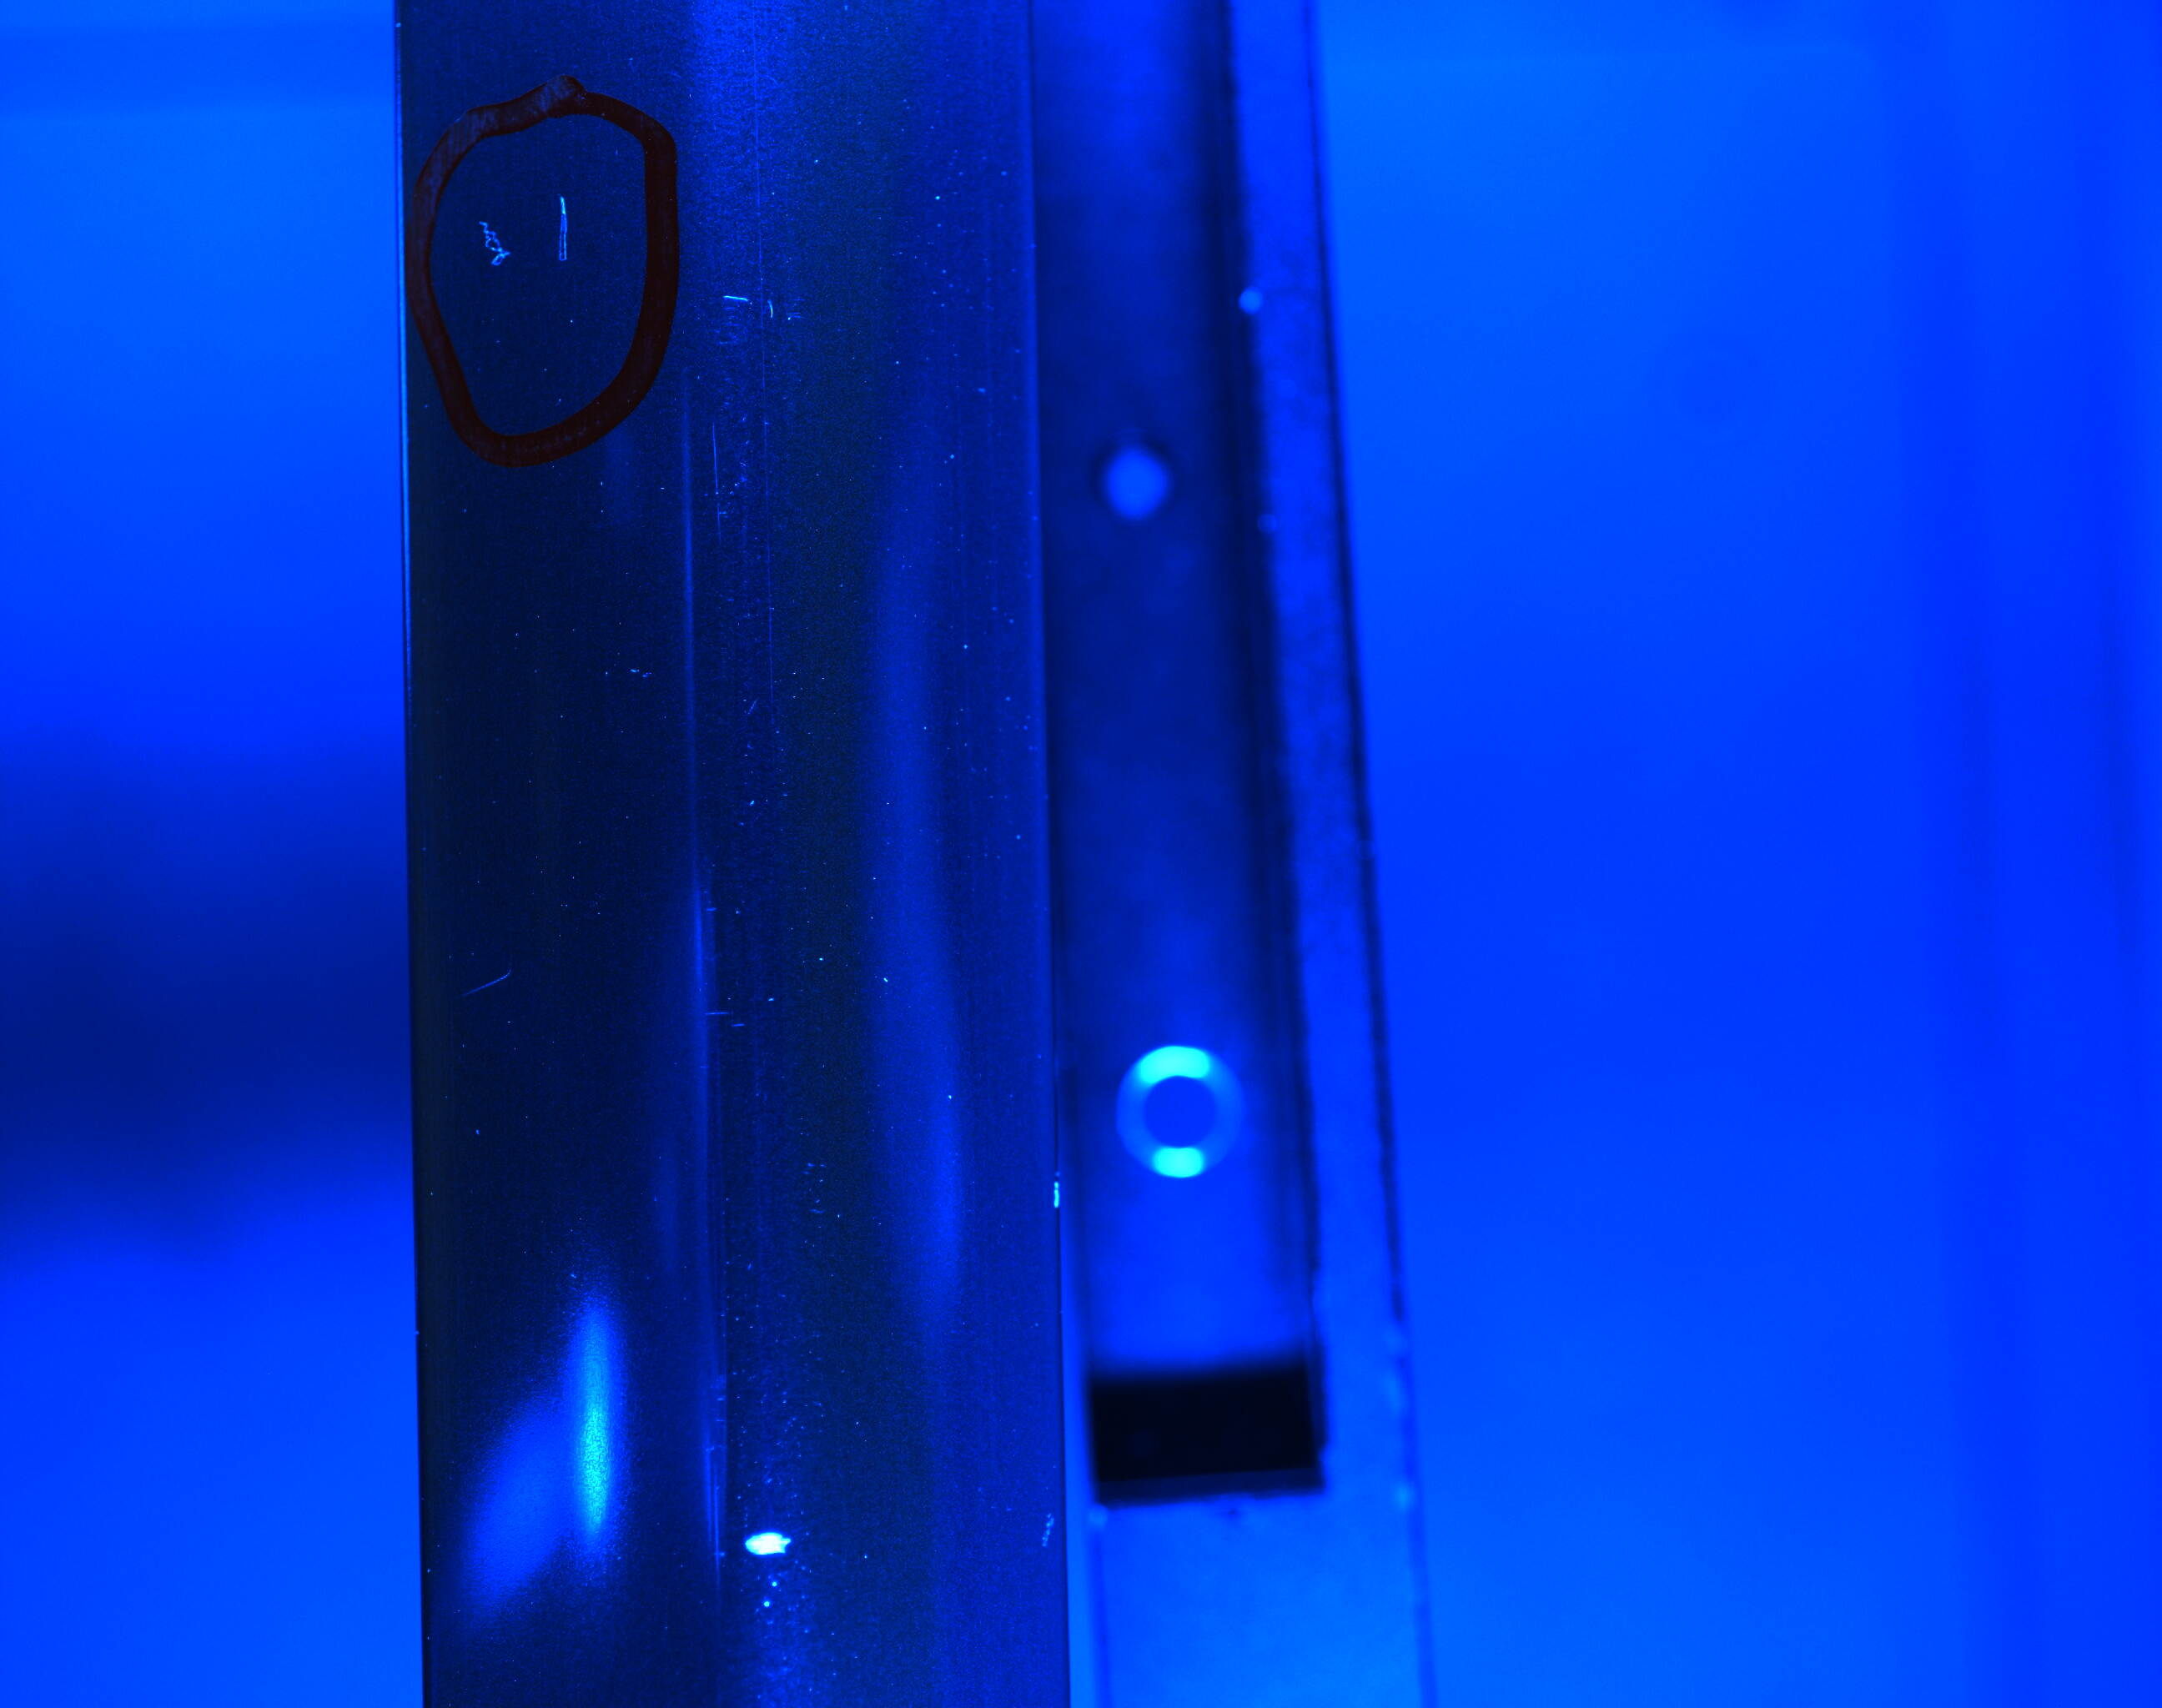NG: (465, 186, 590, 304), (725, 1496, 828, 1596), (455, 944, 526, 1032)
